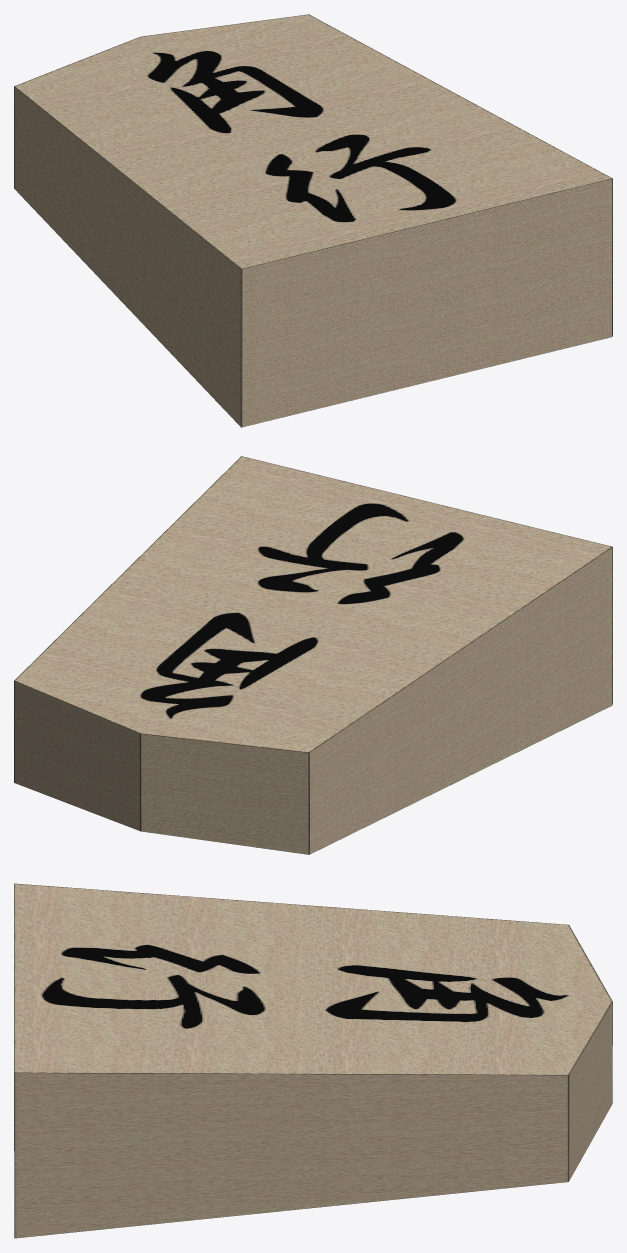
The model's file is 03_Kakugyo.fbx.
3 renders of one model, top to bottom at view 1: azimuth 30°, elevation 25°; view 2: azimuth 150°, elevation 25°; view 3: azimuth 270°, elevation 25°, orthographic. The views are drawn at different scales.
Parts seen in each view (by area): view 1: 03_Kakugyo; view 2: 03_Kakugyo; view 3: 03_Kakugyo.
Part boxes in pixels (x1=…): 03_Kakugyo: x1=14, y1=14, x2=612, y2=427; 03_Kakugyo: x1=14, y1=456, x2=612, y2=854; 03_Kakugyo: x1=14, y1=883, x2=612, y2=1238.
Size of the model in its own units: 0.655 by 0.8753 by 0.267.
Materials: 1 (1 with a texture image).
